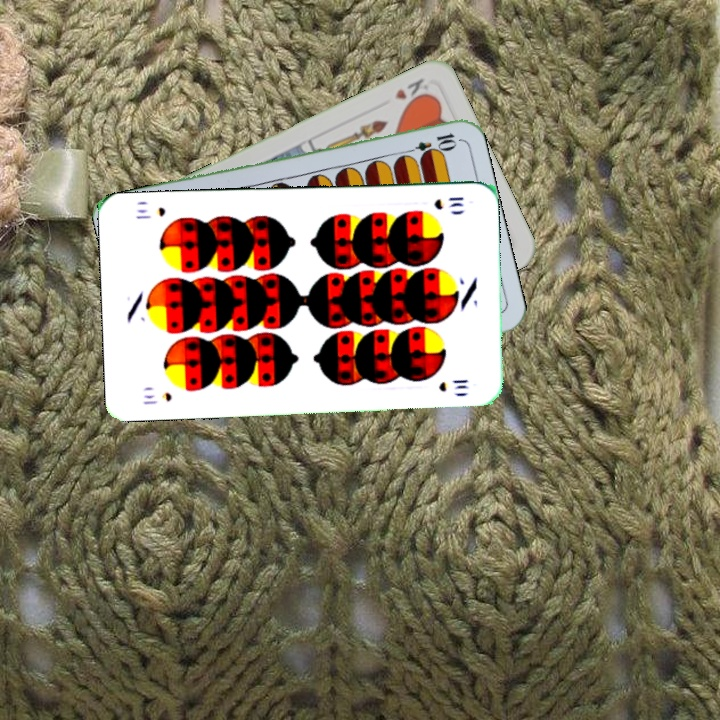E10: (400, 129, 459, 158)
HK: (390, 74, 434, 109)
S10: (430, 193, 466, 212), (139, 388, 174, 407)
